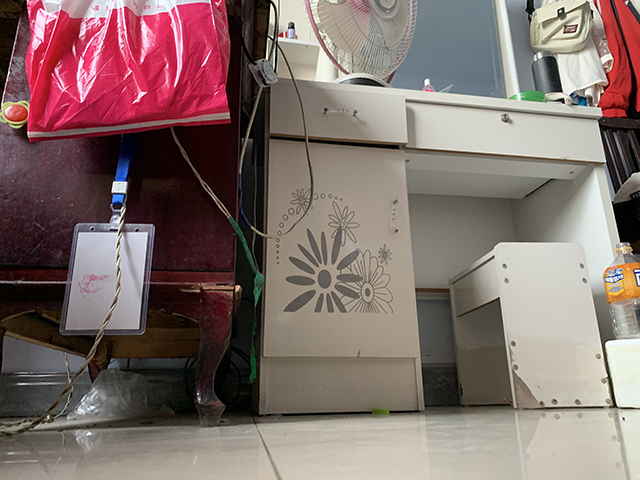cabinet: (1, 1, 268, 426)
stool: (447, 241, 616, 410)
table: (261, 71, 639, 419)
wire: (163, 1, 316, 261), (1, 202, 127, 437)
